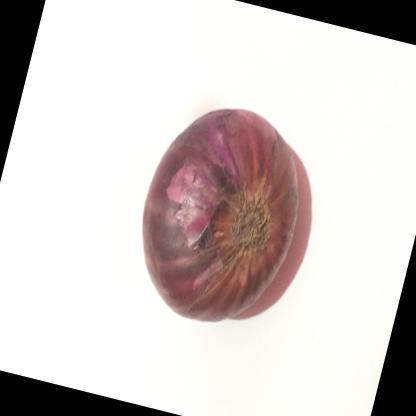onion: (100, 62, 332, 356)
